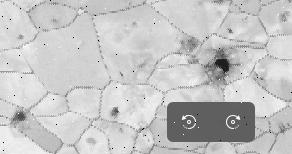good_void: (176, 35, 202, 69), (210, 55, 231, 78), (10, 110, 28, 123), (109, 106, 122, 119), (84, 136, 98, 147), (278, 11, 287, 23), (15, 33, 28, 41), (127, 20, 139, 28), (278, 122, 286, 133), (48, 17, 61, 23), (227, 26, 234, 35), (119, 69, 125, 79), (117, 127, 125, 134), (213, 0, 225, 4), (146, 137, 151, 143), (142, 133, 145, 138)
